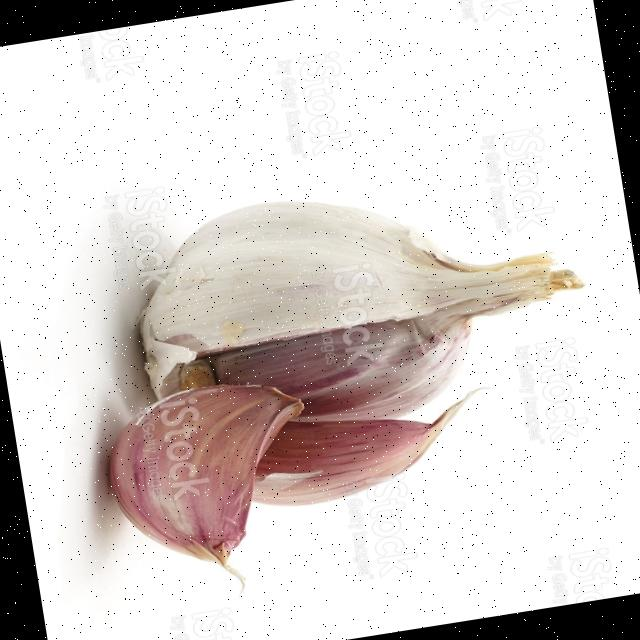garlic: (144, 201, 582, 354), (162, 269, 581, 420), (111, 385, 303, 565), (253, 390, 477, 504)
